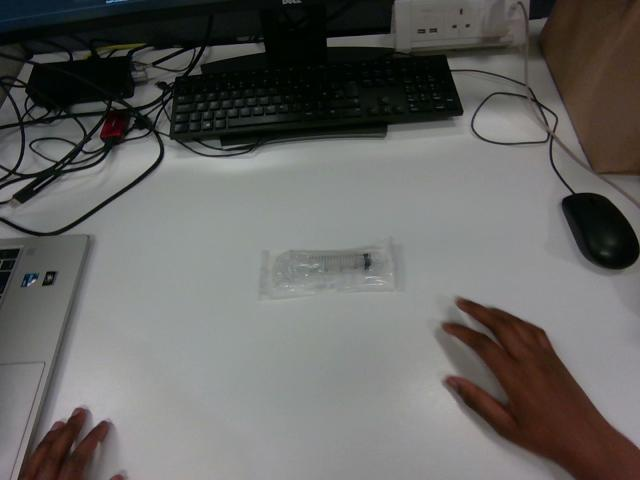syringe: (260, 238, 395, 298)
